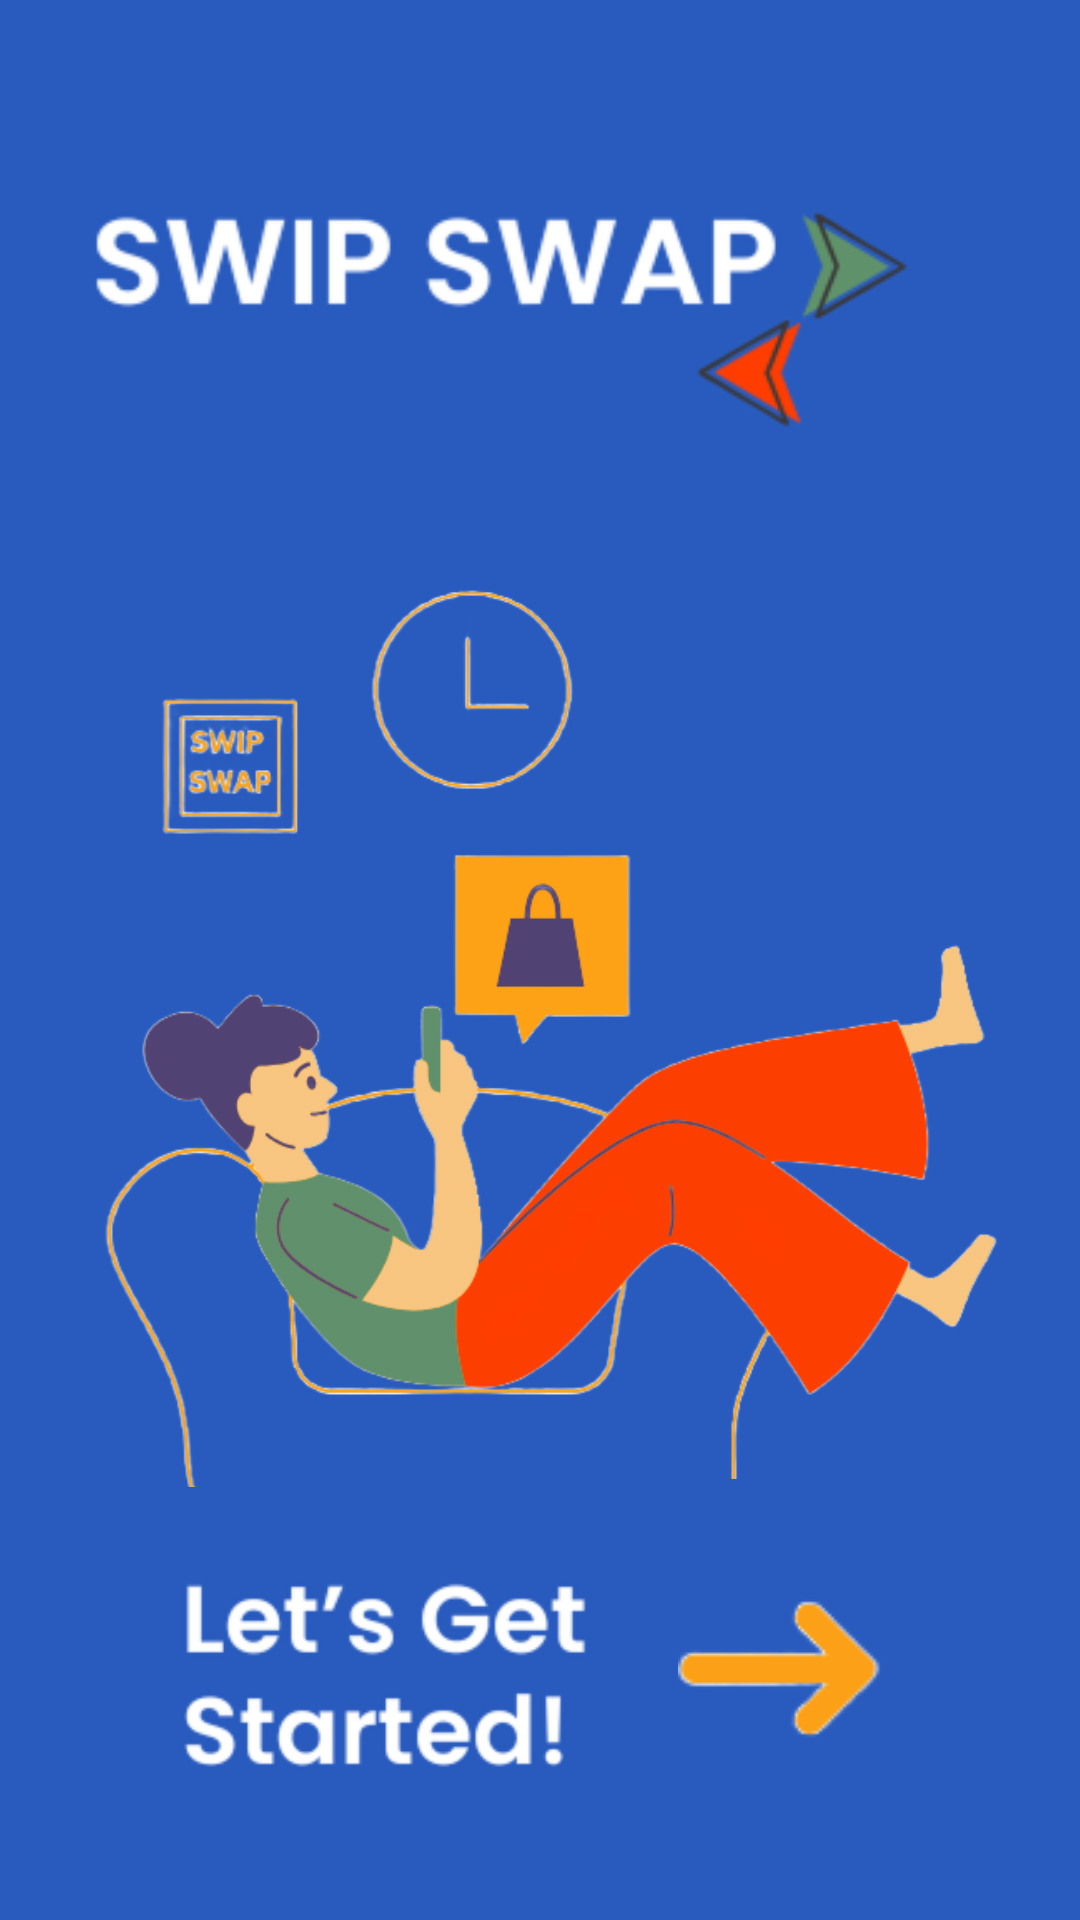

Icons on this 1080*1920 Android screen, each with the point to tap as [x,y]:
Next: [779,1668]
